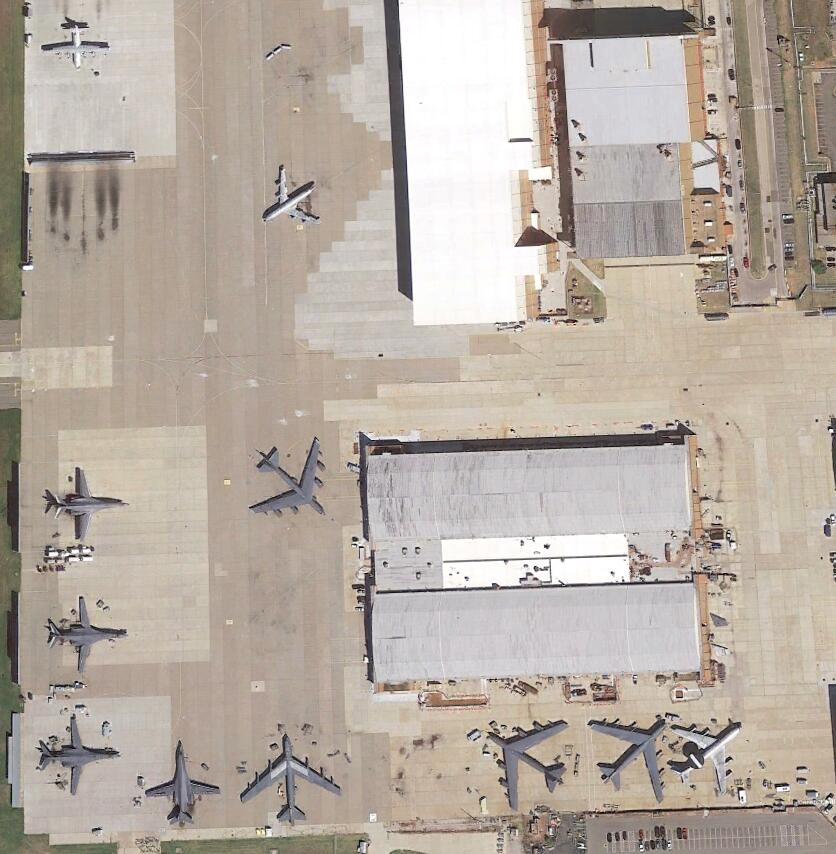A10: (40, 713, 120, 797), (146, 740, 220, 825), (48, 467, 128, 544), (48, 597, 127, 671)
A2: (44, 25, 110, 71)
A7: (669, 721, 743, 797)
A8: (240, 734, 342, 824), (487, 721, 573, 812), (247, 437, 329, 522), (587, 717, 667, 801)
